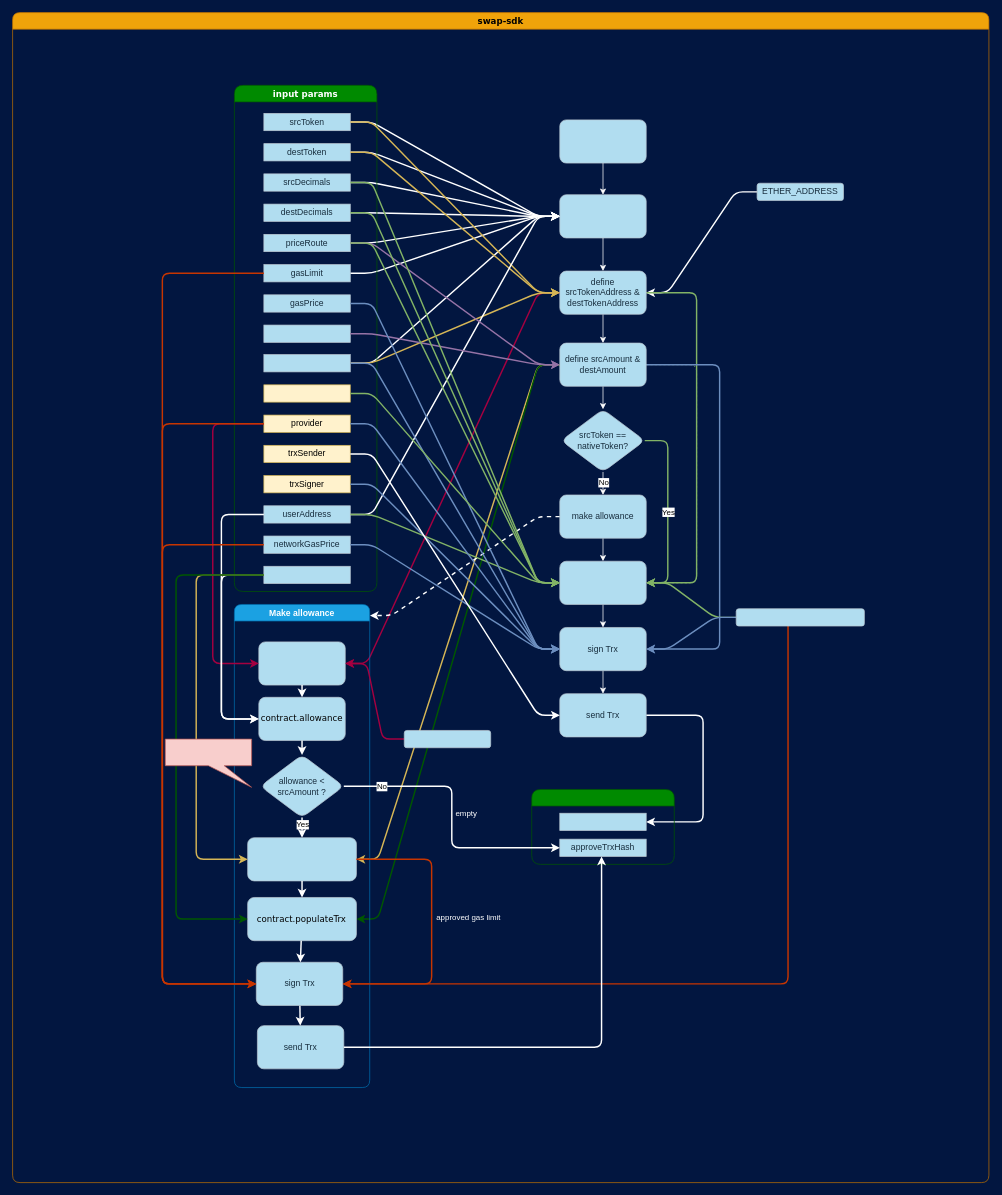
The diagram is 1002 pixels wide and 1195 high, and some of its shapes have lost their labels. The shapes that lost their labels are listed below. From the top down, each one's box as (x1, y1, x2, y2) in pixels, then its label:
(559, 119, 646, 163): start: performSwap
(559, 194, 646, 238): check inputs
(263, 324, 350, 342): slippage
(263, 354, 350, 372): activeNetwork
(263, 384, 350, 402): trxBuilder
(263, 566, 350, 584): spender
(559, 561, 646, 604): build Trx
(735, 608, 864, 626): AVALANCHE_MAINNET_ID
(258, 641, 345, 685): create contract
(404, 730, 491, 748): ERC20.abi
(165, 738, 252, 787): not accountig for gas cost
(559, 813, 646, 831): swapTrxhash
(531, 789, 674, 864): output params
(247, 837, 356, 881): contract.estimateGas
